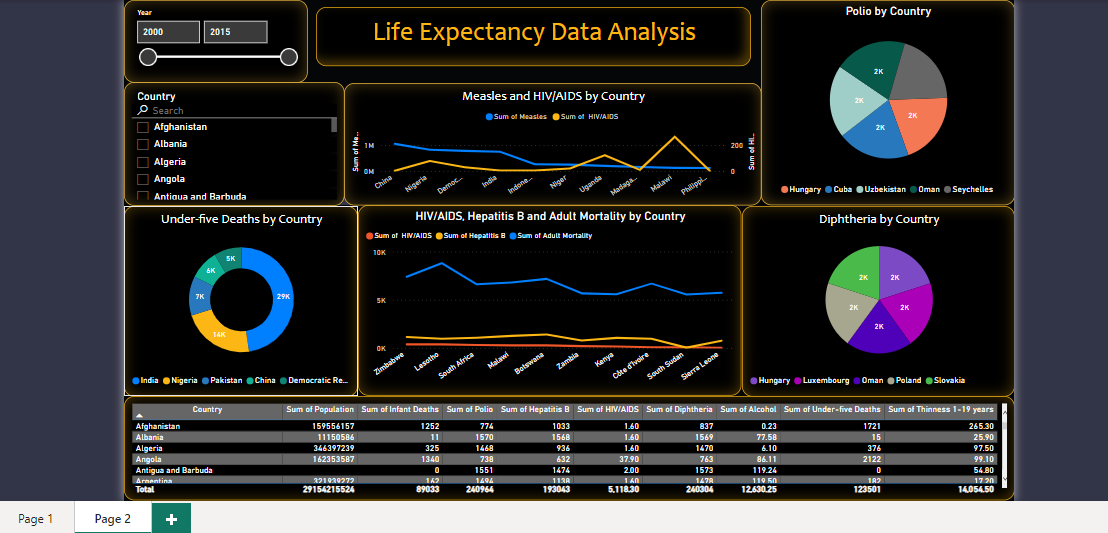

The dashboard page shown, as its layout file describes it:
{"tool":"powerbi","page":{"name":"Page 2","canvas":[1280,720],"ordinal":1},"visuals":[{"type":"donutChart","title":"Under-five Deaths  by Country","fields":{"Category":["Life Expectancy Data.Country"],"Y":["Sum(Life Expectancy Data.Under-five Deaths )"]},"box":[0,295.9,335.8,273.9],"z":0},{"type":"lineChart","title":"HIV/AIDS, Hepatitis B and Adult Mortality by Country","fields":{"Category":["Life Expectancy Data.Country"],"Y":["Sum(Life Expectancy Data. HIV/AIDS)","Sum(Life Expectancy Data.Hepatitis B)","Sum(Life Expectancy Data.Adult Mortality)"]},"box":[335.8,295.3,551.4,274.4],"z":1000},{"type":"pieChart","title":"Diphtheria  by Country","fields":{"Y":["Sum(Life Expectancy Data.Diphtheria )"],"Category":["Life Expectancy Data.Country"]},"box":[887.7,295.9,392.3,273.9],"z":2000},{"type":"slicer","fields":{"Values":["Life Expectancy Data.Country"]},"box":[0,118.4,316.6,177.5],"z":3000},{"type":"lineChart","title":"Measles  and HIV/AIDS by Country","fields":{"Category":["Life Expectancy Data.Country"],"Y":["Sum(Life Expectancy Data.Measles )"],"Y2":["Sum(Life Expectancy Data. HIV/AIDS)"]},"box":[316.2,118.9,599.8,176.4],"z":4000},{"type":"pieChart","title":"Polio by Country","fields":{"Category":["Life Expectancy Data.Country"],"Y":["Sum(Life Expectancy Data.Polio)"]},"box":[916,0,364.6,295.3],"z":5000},{"type":"tableEx","fields":{"Values":["Life Expectancy Data.Country","Sum(Life Expectancy Data.Population)","Sum(Life Expectancy Data.Infant Deaths)","Sum(Life Expectancy Data.Polio)","Sum(Life Expectancy Data.Hepatitis B)","Sum(Life Expectancy Data. HIV/AIDS)","Sum(Life Expectancy Data.Diphtheria )","Sum(Life Expectancy Data.Alcohol)","Sum(Life Expectancy Data.Under-five Deaths )","Sum(Life Expectancy Data. Thinness  1-19 years)"]},"box":[0,569.8,1280,150],"z":6000},{"type":"slicer","fields":{"Values":["Life Expectancy Data.Year"]},"box":[0,0,264,118.9],"z":7000},{"type":"textbox","box":[275.9,10.1,625.1,84.8],"z":8000}]}

Visuals, with their boxes in screenshot pixels (x1, y1, x2, y2):
"Under-five Deaths  by Country" donutChart: x1=118 y1=203 x2=355 y2=396
"HIV/AIDS, Hepatitis B and Adult Mortality by Country" lineChart: x1=355 y1=202 x2=744 y2=396
"Diphtheria  by Country" pieChart: x1=744 y1=203 x2=1021 y2=396
slicer - Life Expectancy Data.Country: x1=118 y1=78 x2=342 y2=203
"Measles  and HIV/AIDS by Country" lineChart: x1=341 y1=78 x2=764 y2=202
"Polio by Country" pieChart: x1=764 y1=0 x2=1021 y2=202
tableEx - Life Expectancy Data.Country x Sum(Life Expectancy Data.Population): x1=118 y1=396 x2=1021 y2=502
slicer - Life Expectancy Data.Year: x1=118 y1=0 x2=304 y2=78
textbox: x1=313 y1=1 x2=754 y2=61
